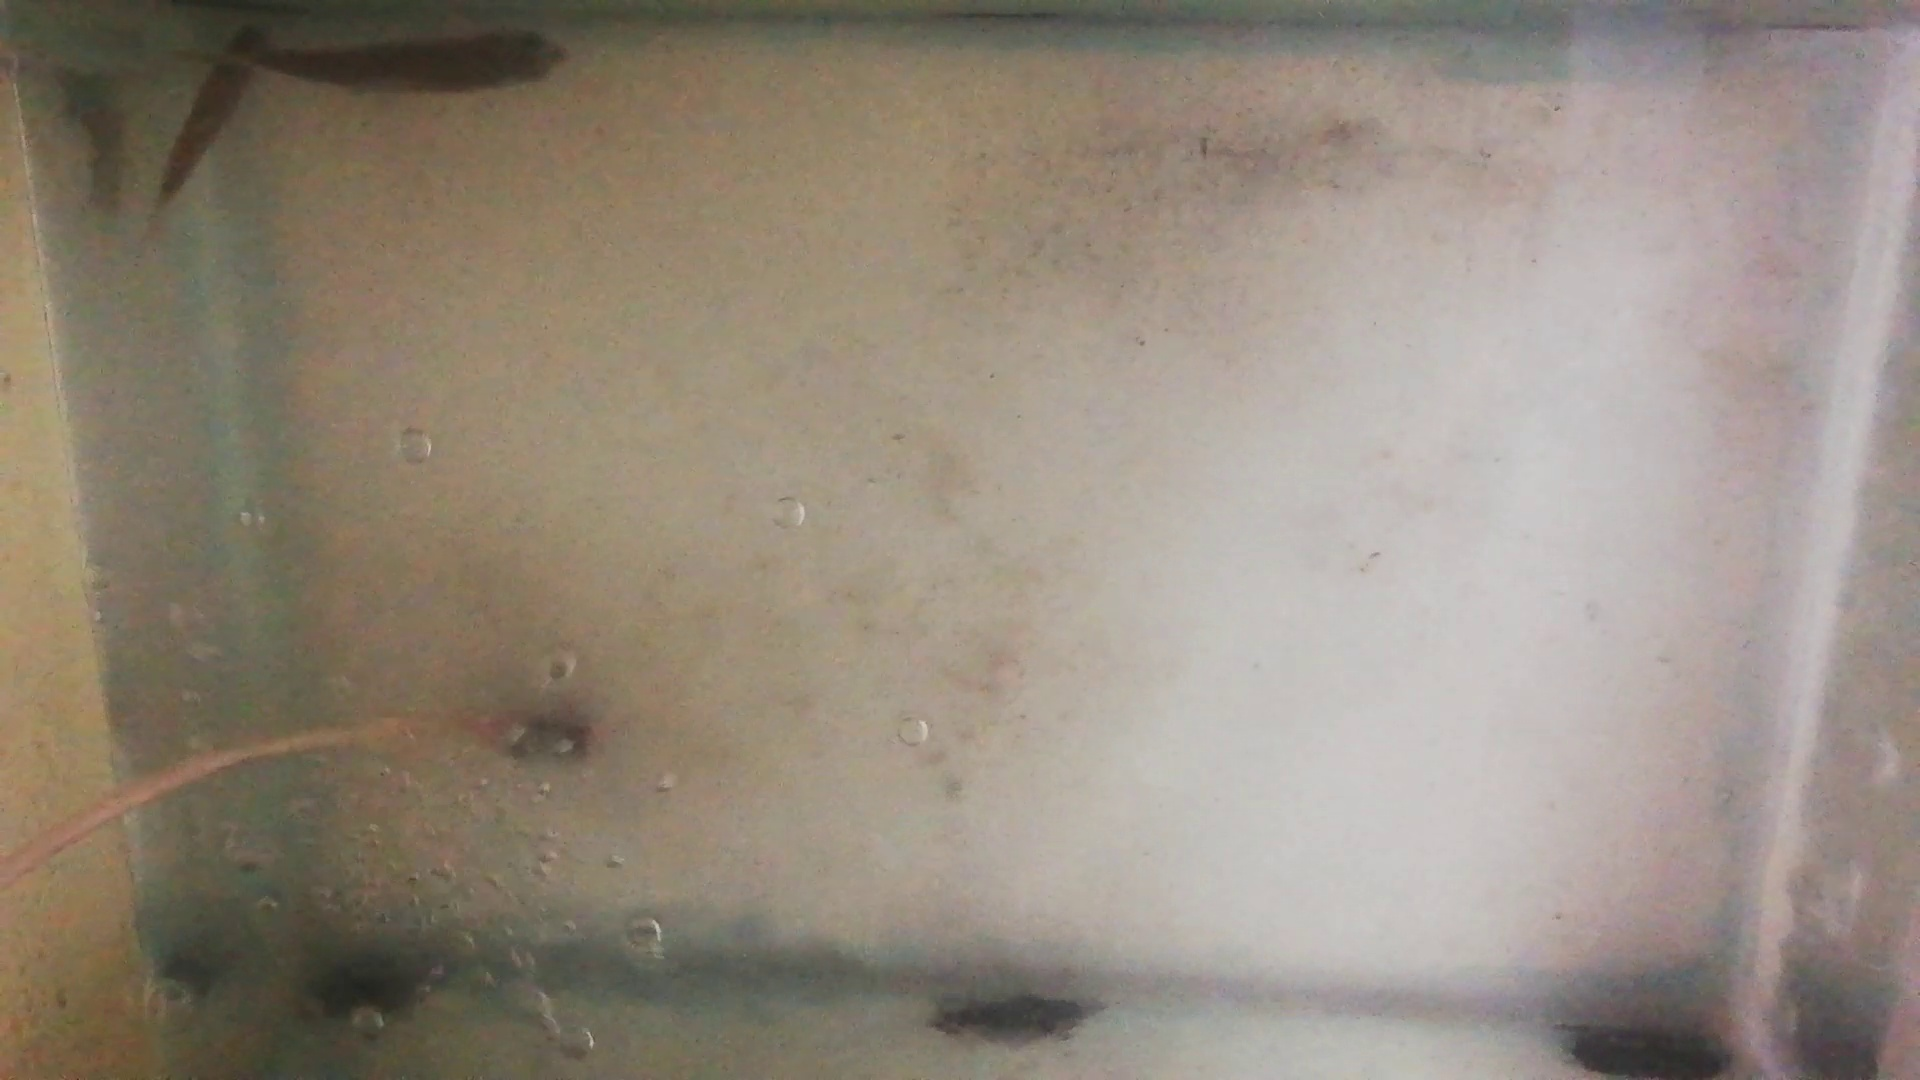fish: (237, 30, 570, 95), (162, 18, 273, 198)
